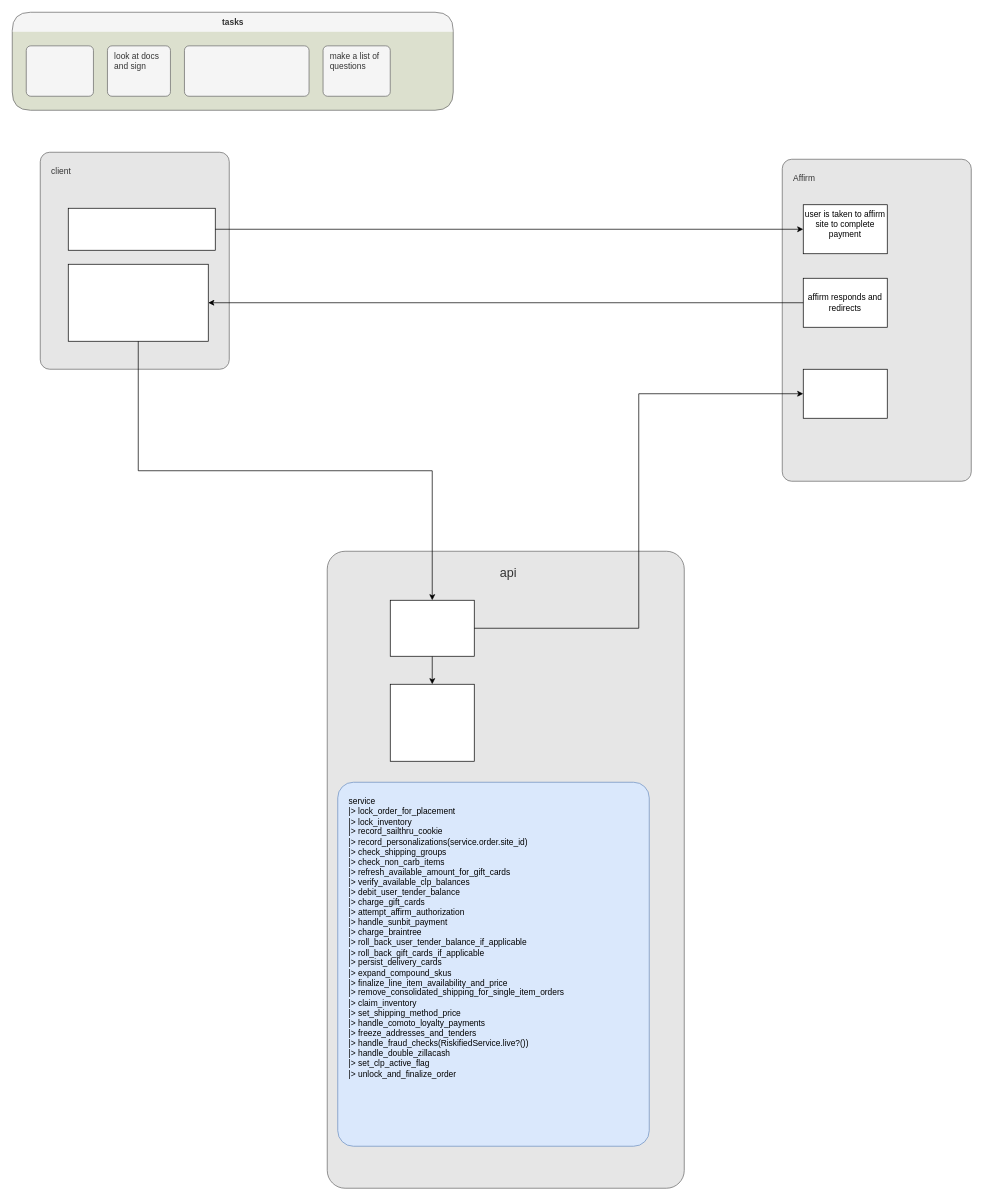
Image size: 984x1201. Some labels were removed from this diagram. Each missing label, with the centre of its shape:
affirm_service.ex: the point at 432,628
back to redine checkout with token, there is a spinning bit while...: the point at 138,302
item is in checkout and user wants to pay with affirm: the point at 141,229
no response needed: the point at 845,393
record affirm Tender in datastore???: the point at 432,722
